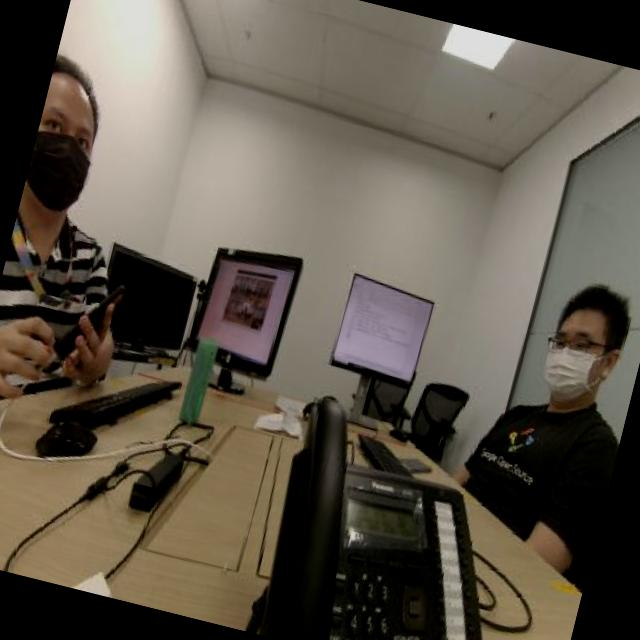Person: (0, 37, 172, 384), (486, 243, 640, 533)
